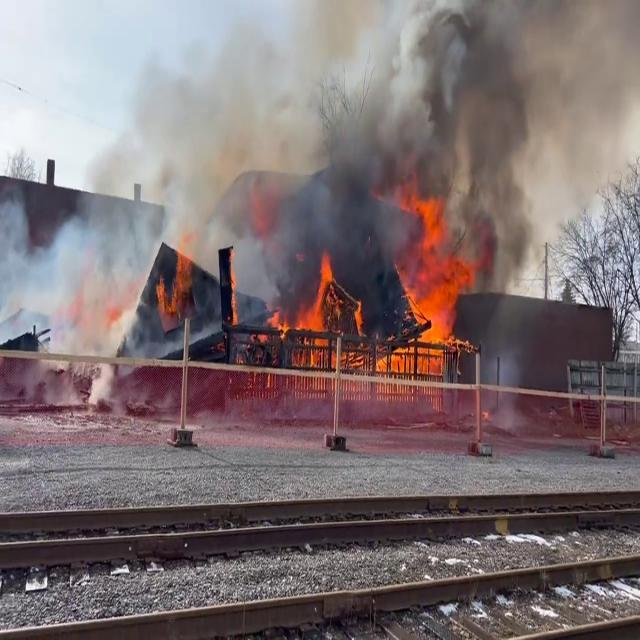Fire: (398, 201, 476, 347), (273, 254, 347, 348), (154, 238, 195, 330), (227, 246, 240, 327)
Smoke: (100, 0, 628, 282)
